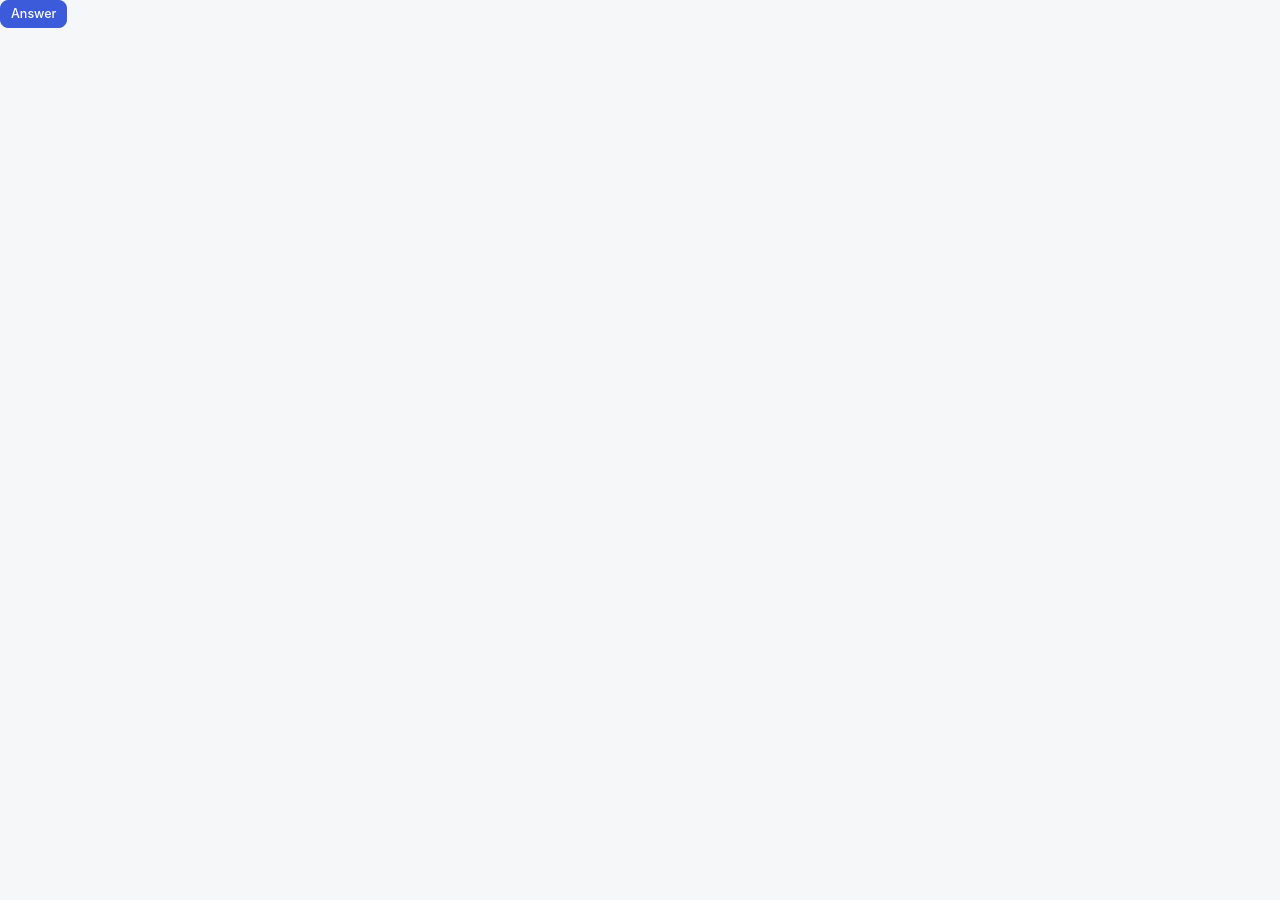
Test: the answer dialog › Esc closes, focus returns to Answer, and the draft is kept
Click the button with aria-label "Answer codex on RCP-17" at (34, 14), box [0,0,68,28]
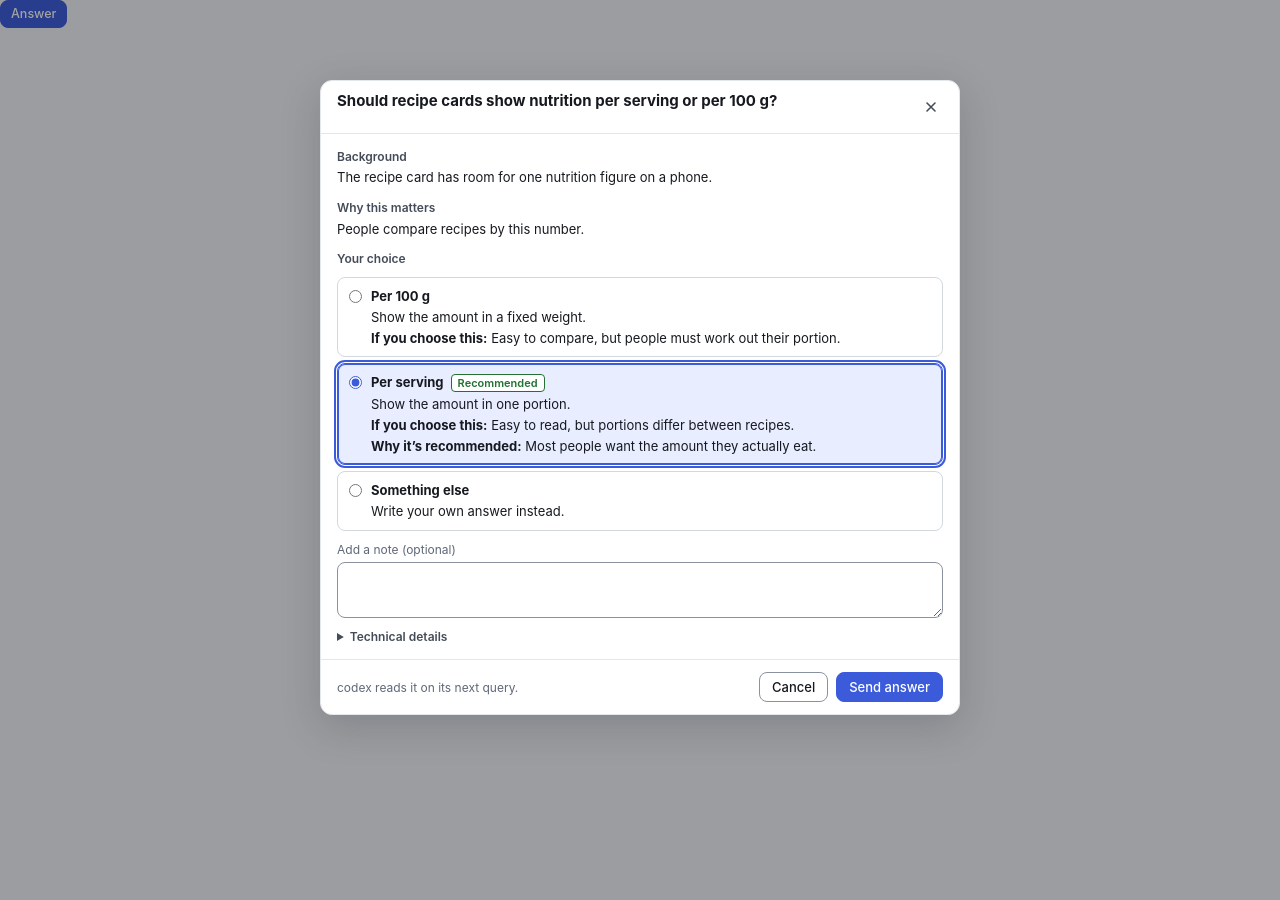
Type "Half a thought" into the text box labelled "Add a note (optional)" at (640, 590), box [337,562,943,618]
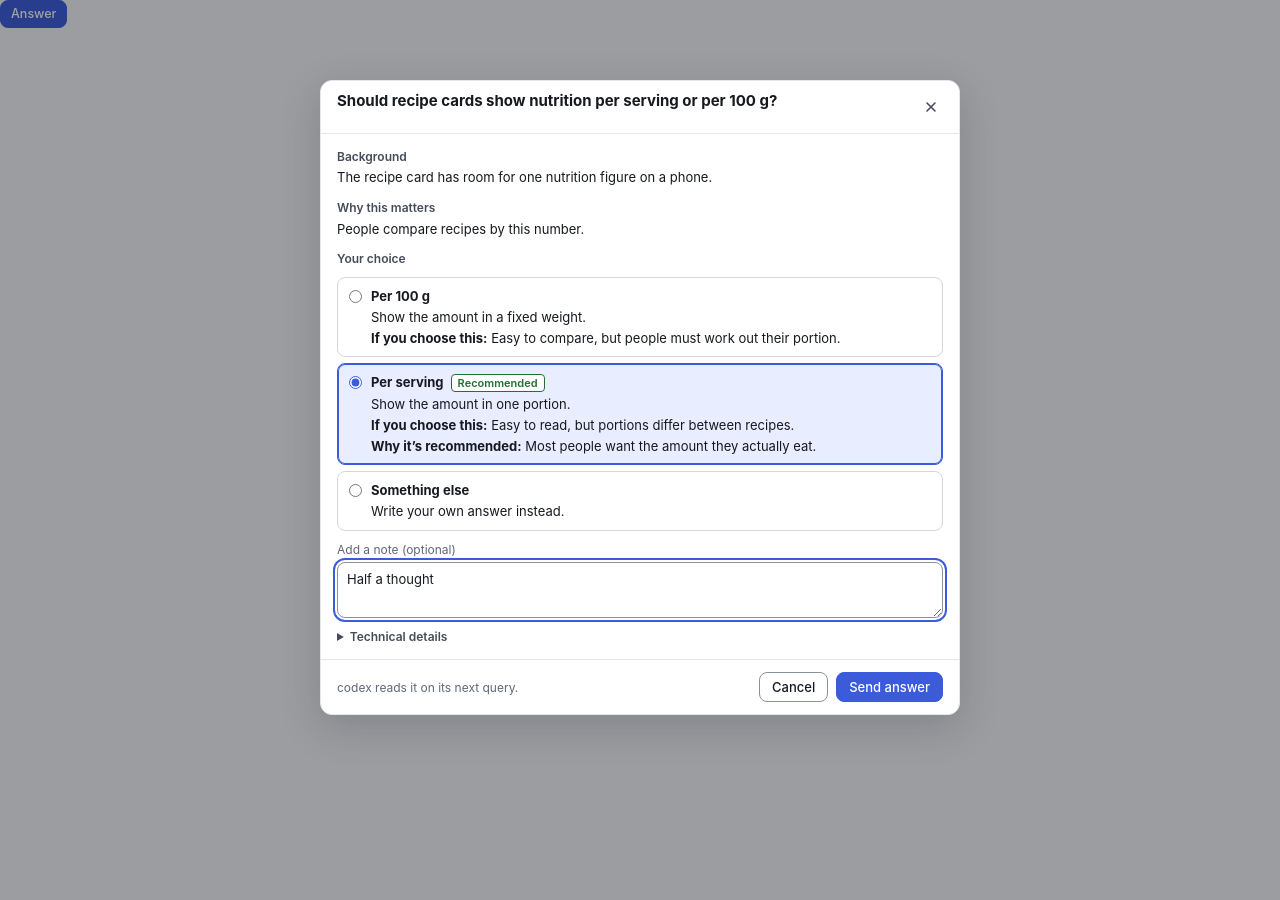
Press Escape
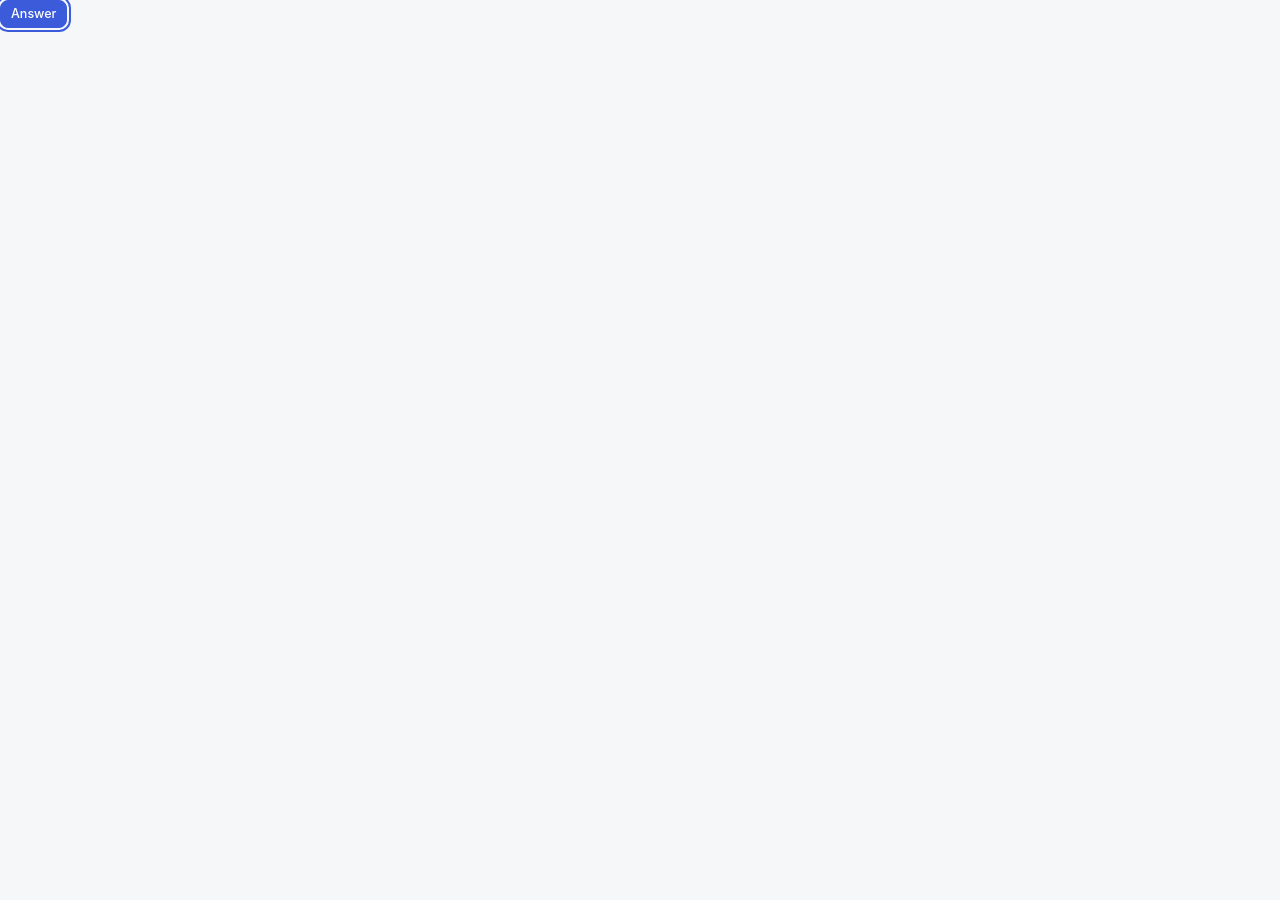
Check: the dialog is gone
Click the button with aria-label "Answer codex on RCP-17" at (34, 14), box [0,0,68,28]
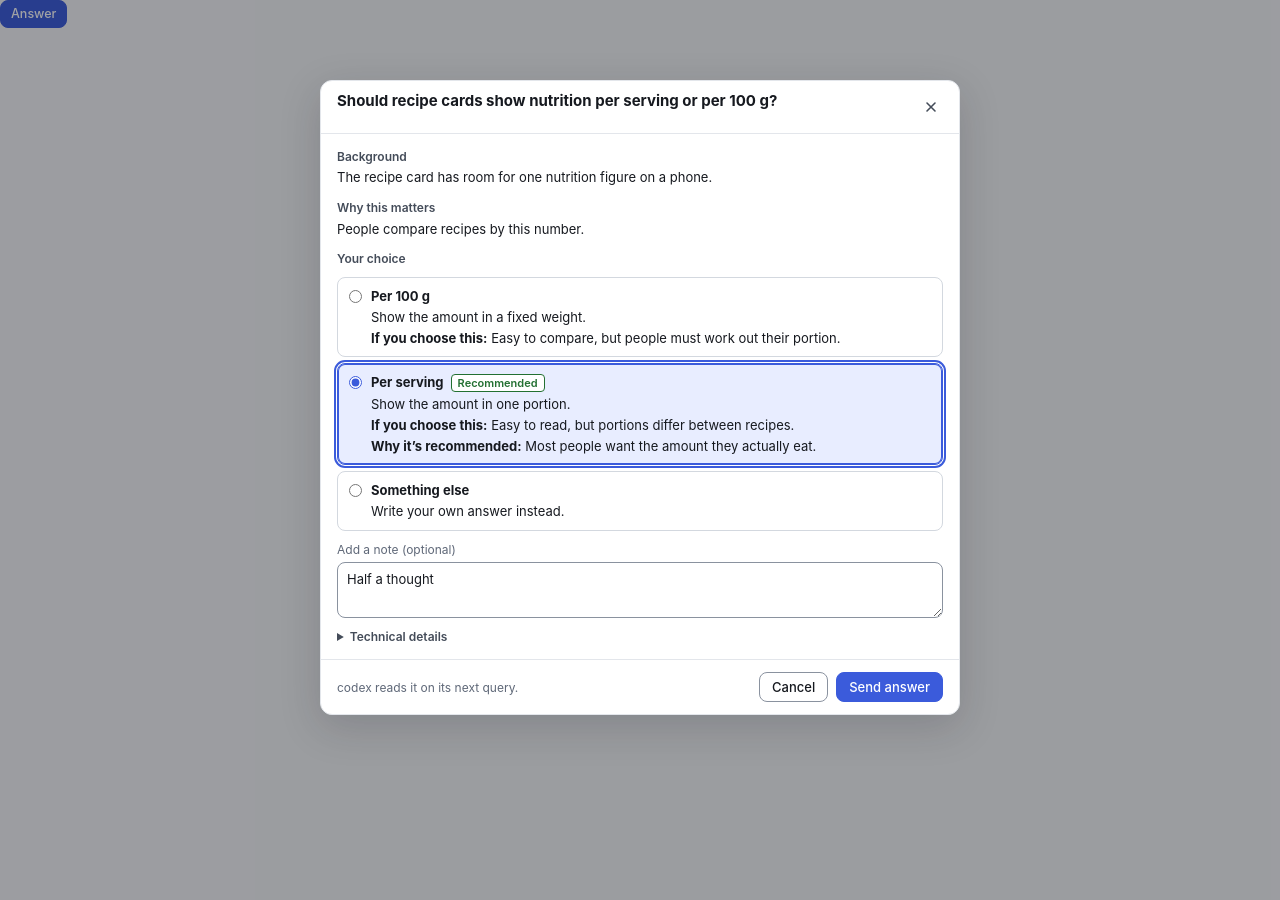
Check: the text box labelled "Add a note (optional)" holds "Half a thought", box [337,562,943,618]
